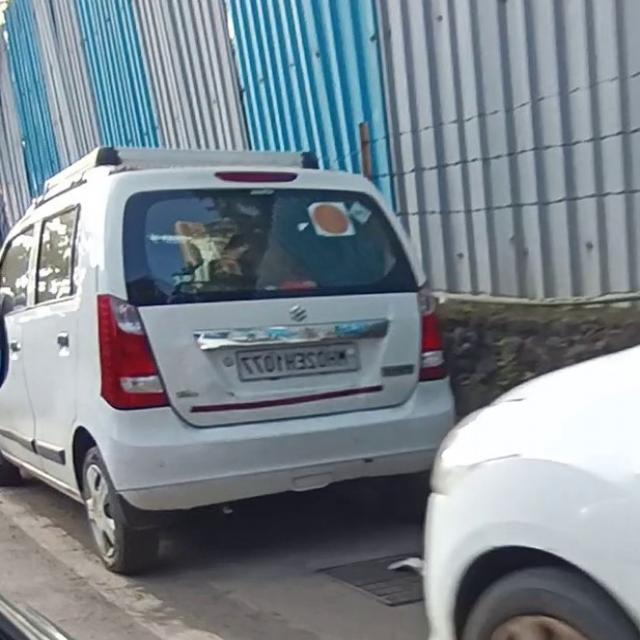license_plate: (230, 335, 362, 387)
